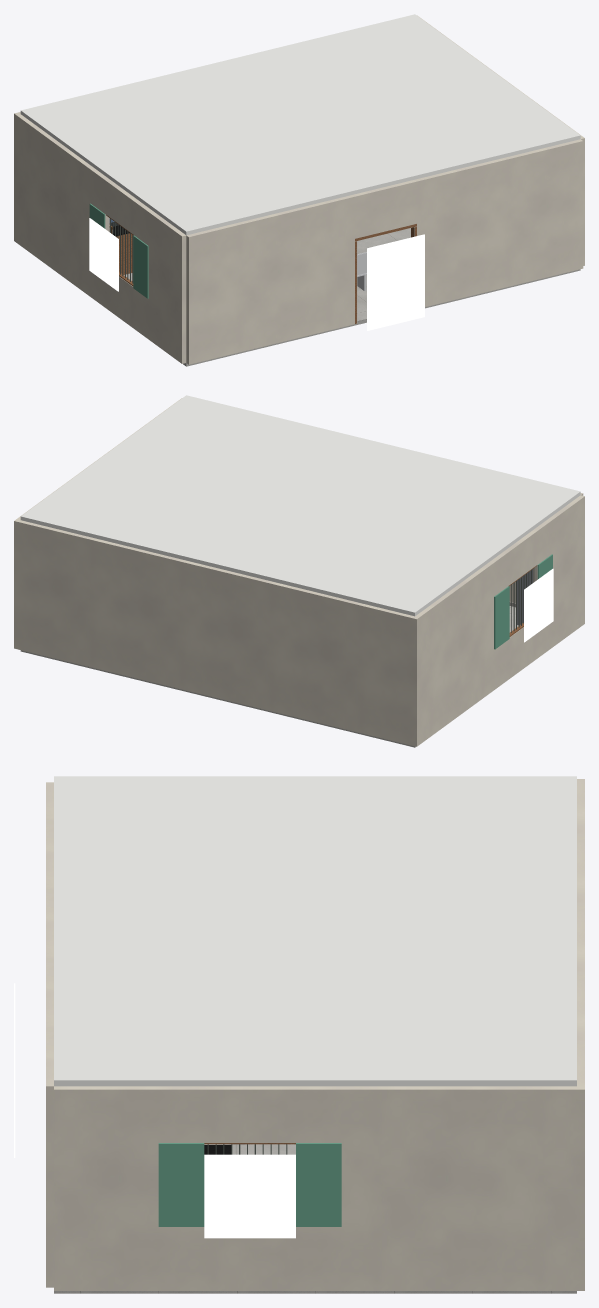
File: room_coopbank.glb
3 renders of one model, top to bottom at view 1: azimuth 30°, elevation 25°; view 2: azimuth 150°, elevation 25°; view 3: azimuth 270°, elevation 25°, orthographic. The views are drawn at different scales.
Parts seen in each view (by area): view 1: Room; view 2: Room; view 3: Room.
Part boxes in pixels (bbox=[...]): Room: bbox=[14, 14, 584, 366]; Room: bbox=[14, 395, 584, 747]; Room: bbox=[14, 776, 584, 1293].
Bounding box in the file's own units: 12.14 × 3.6 × 8.73.
62 materials, 8 textured.
